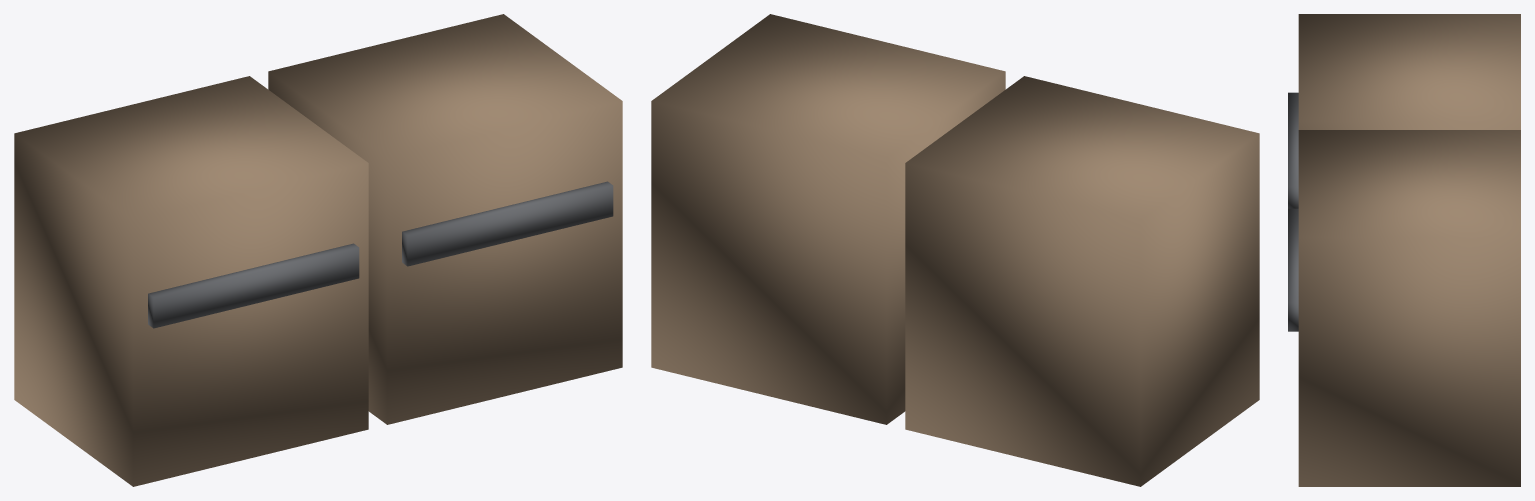
File: side_table__cluster.glb
The picture shows the model from 3 angles, left to right: view 1: azimuth 30°, elevation 25°; view 2: azimuth 150°, elevation 25°; view 3: azimuth 270°, elevation 25°; orthographic projection. The views are drawn at different scales.
Visible parts, largest first — view 1: world; view 2: world; view 3: world.
Boxes of the visible parts, left/top/right/bottom form: world: left=14, top=14, right=622, bottom=486; world: left=651, top=14, right=1259, bottom=486; world: left=1288, top=14, right=1520, bottom=486.
Bounding box in the file's own units: 0.9984 × 0.52 × 0.44.
